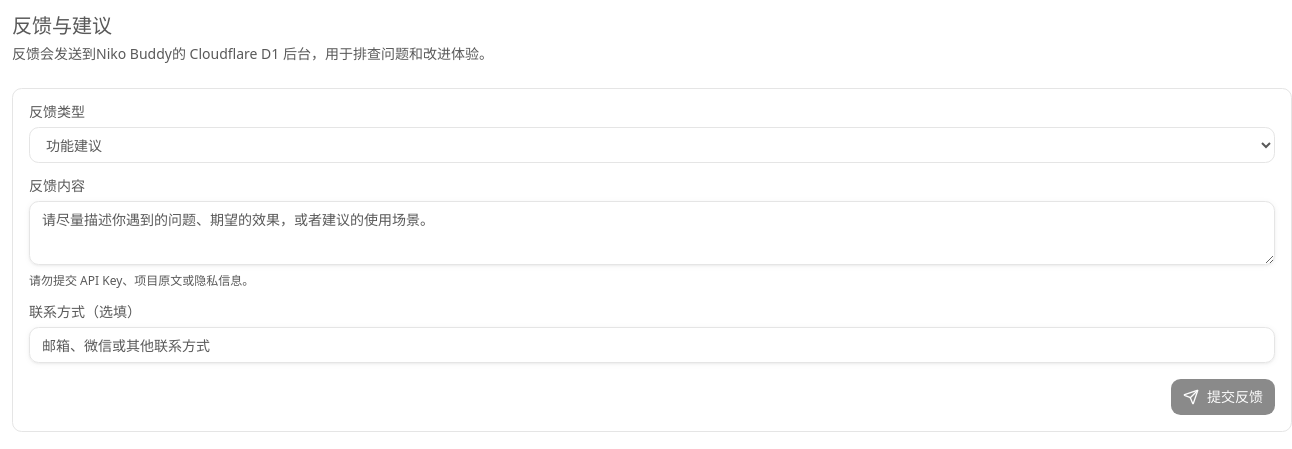
Scenario: FeedbackSection › submit failure with a non-Error stringifies the value
Type "x" into the text box labelled "反馈内容".
click(652, 233); type("x")  # box [29,201,1275,265]
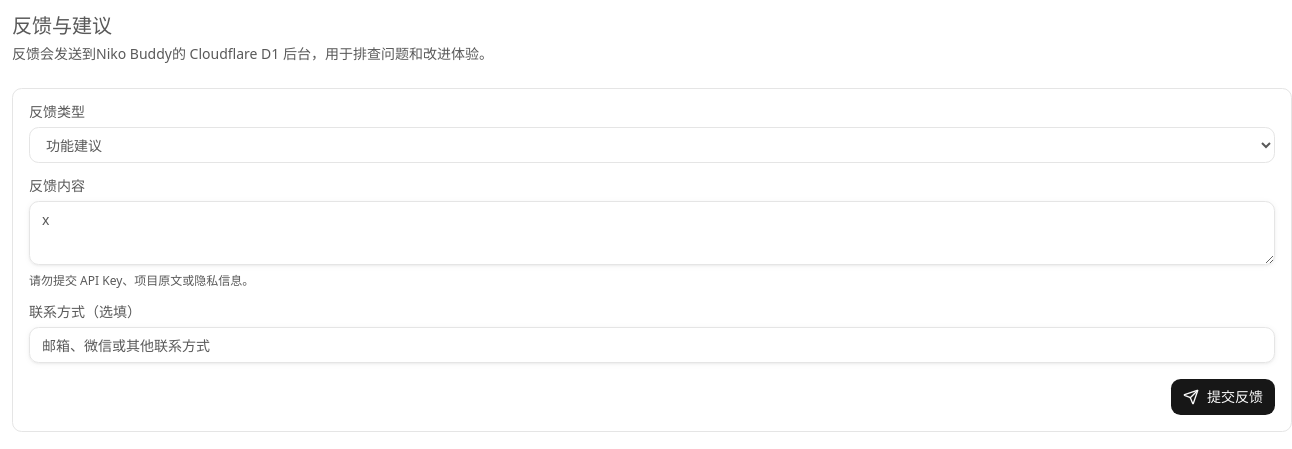
Click the button "提交反馈".
click(1223, 397)  # box [1171,379,1275,415]
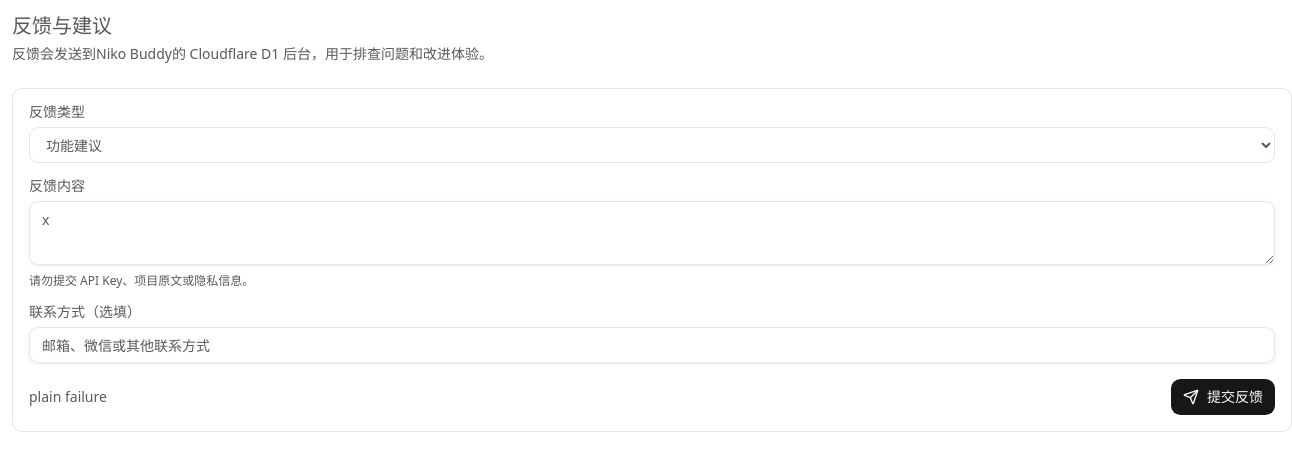
Check: the text "plain failure" is shown, box [29,387,107,407]
